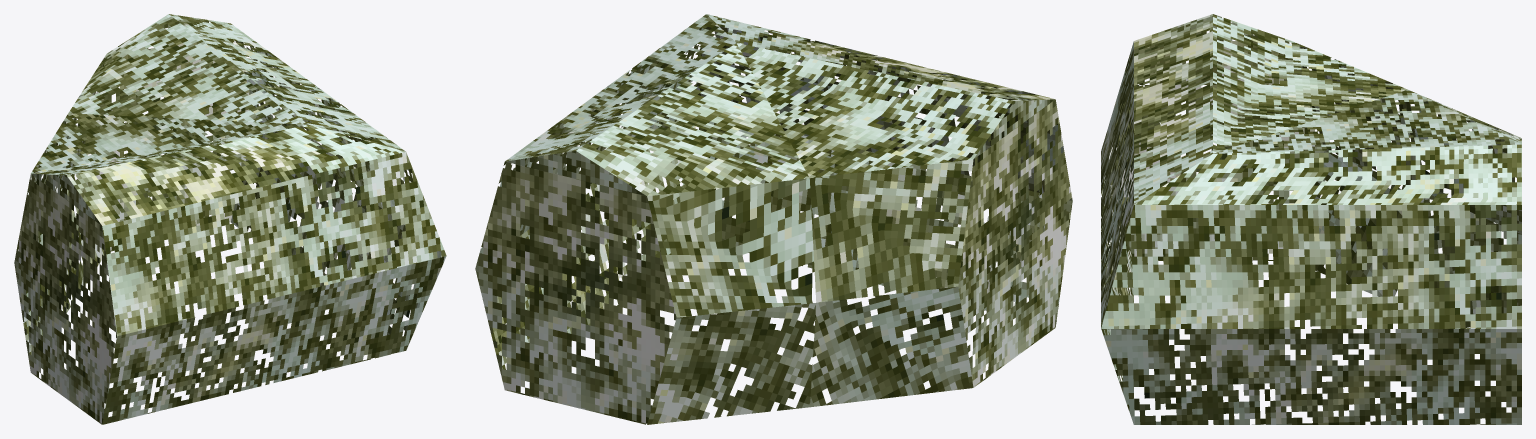
File: bush_square_corner_filled_winter.glb
The picture shows the model from 3 angles, left to right: view 1: azimuth 30°, elevation 25°; view 2: azimuth 150°, elevation 25°; view 3: azimuth 270°, elevation 25°; orthographic projection. The views are drawn at different scales.
Parts seen in each view (by area): view 1: bush_square_corner_filled_winter; view 2: bush_square_corner_filled_winter; view 3: bush_square_corner_filled_winter.
Boxes of the visible parts, left/top/right/bottom form: bush_square_corner_filled_winter: left=14, top=14, right=446, bottom=424; bush_square_corner_filled_winter: left=475, top=14, right=1072, bottom=424; bush_square_corner_filled_winter: left=1101, top=14, right=1521, bottom=424.
Bounding box in the file's own units: 1.36 × 0.8765 × 1.35.
Materials: 1 (1 with a texture image).
